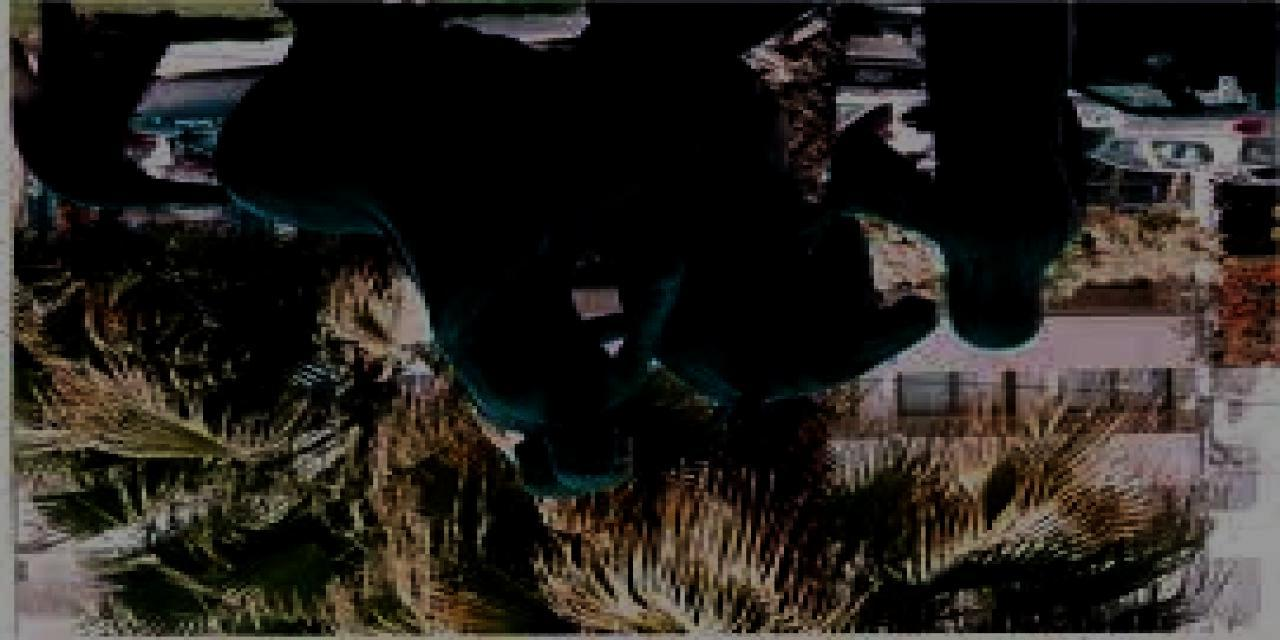Aretousa: (8, 1, 1088, 501)
